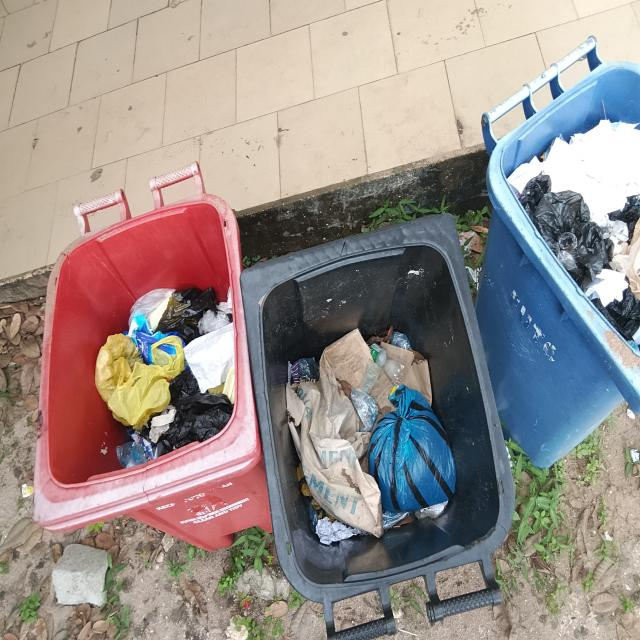half-full: (255, 234, 510, 588), (49, 204, 238, 520), (496, 59, 640, 394)
